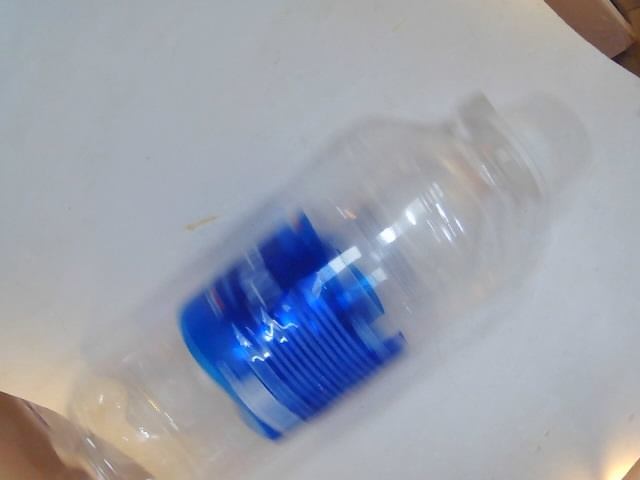plastic: (50, 106, 558, 480)
